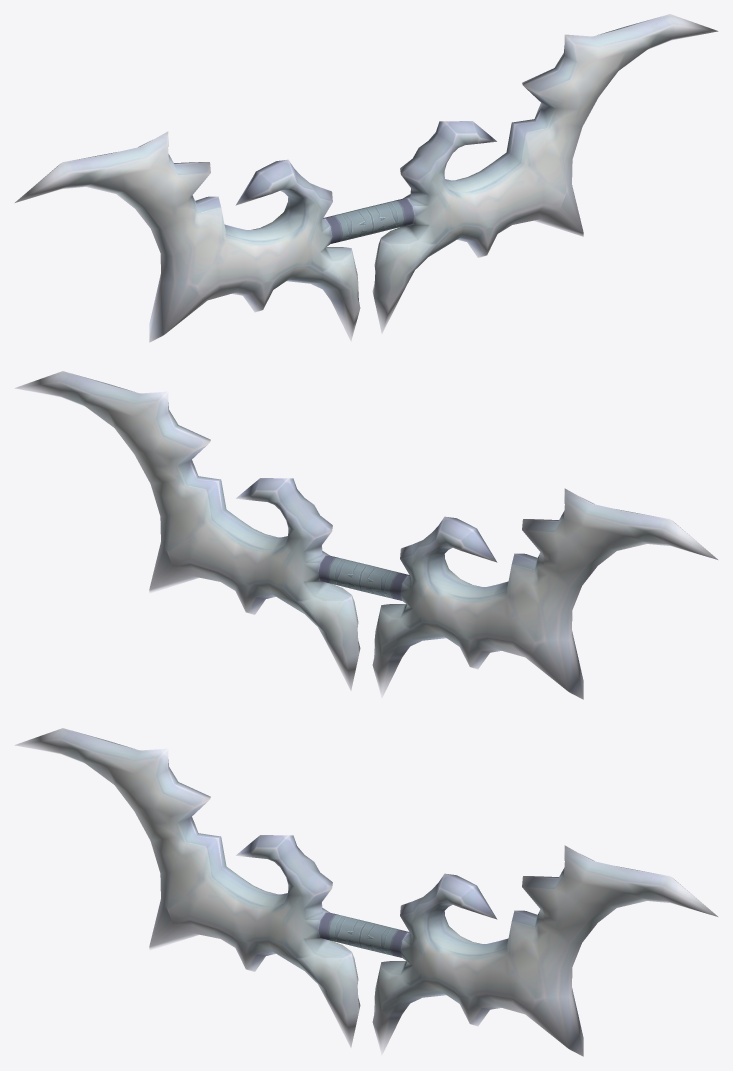
Rendered from item_weabowmgm2501-et06.glb.
The picture shows the model from 3 angles, top to bottom: view 1: azimuth 30°, elevation 25°; view 2: azimuth 150°, elevation 25°; view 3: azimuth 330°, elevation 25°; orthographic projection.
Parts seen in each view (by area): view 1: FlyffMesh; view 2: FlyffMesh; view 3: FlyffMesh.
Boxes of the visible parts, x1,y1,x2,y2 form: FlyffMesh: [15, 14, 718, 342]; FlyffMesh: [14, 371, 717, 699]; FlyffMesh: [14, 728, 717, 1056].
Bounding box in the file's own units: 1.72 × 0.5959 × 0.1294.
Materials: 1 (1 with a texture image).
